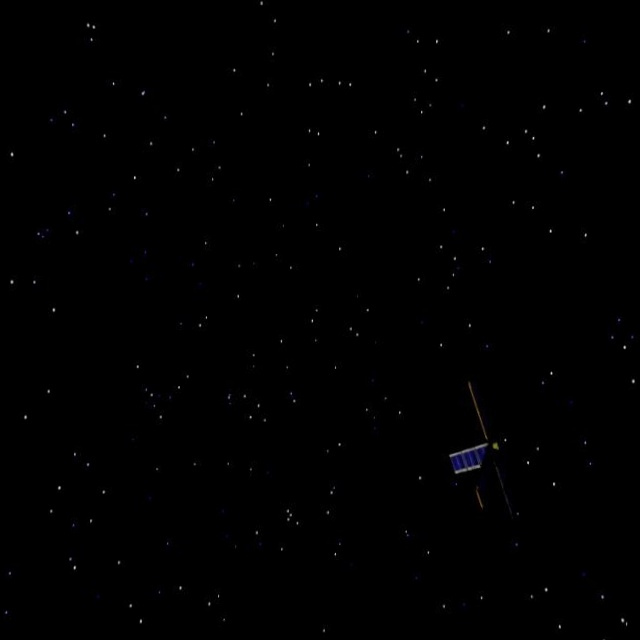medium_debris: (447, 369, 539, 521)
